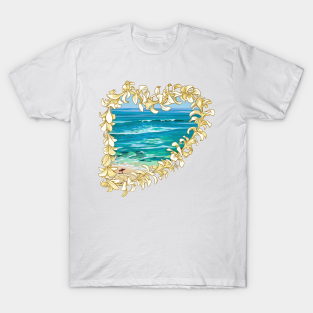design: (96, 79, 216, 198)
